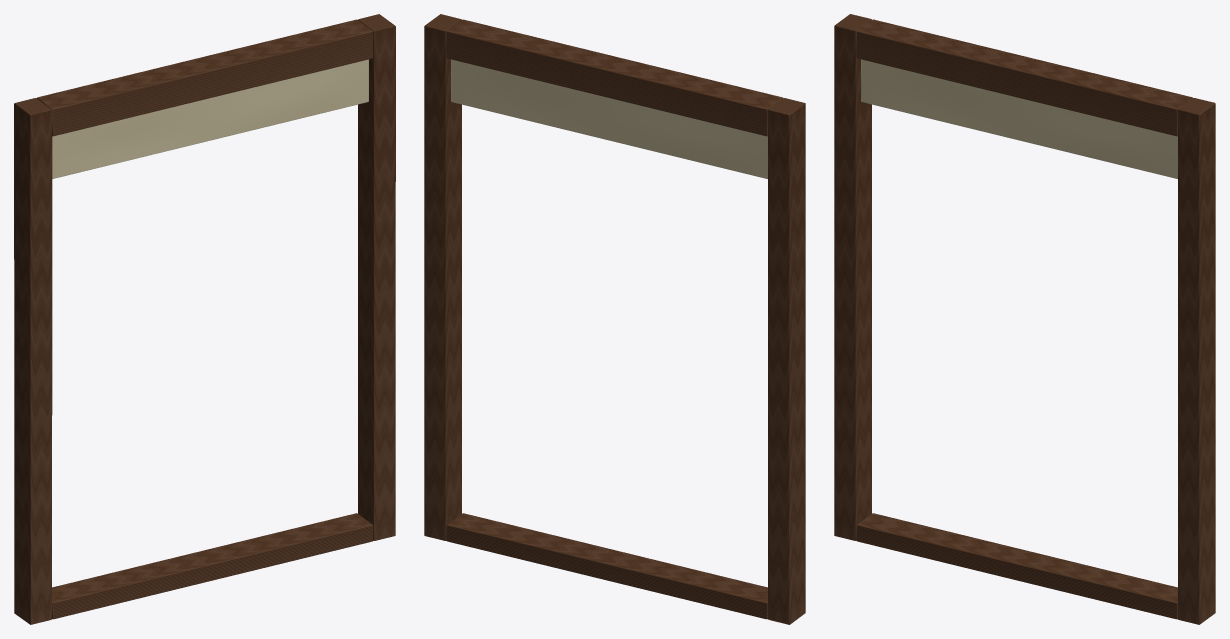
File: doorway.gltf
The picture shows the model from 3 angles, left to right: view 1: azimuth 30°, elevation 25°; view 2: azimuth 150°, elevation 25°; view 3: azimuth 330°, elevation 25°; orthographic projection.
Bounding box in the file's own units: 1.8 × 2.4 × 0.14.
Materials: 2 (2 with a texture image).
